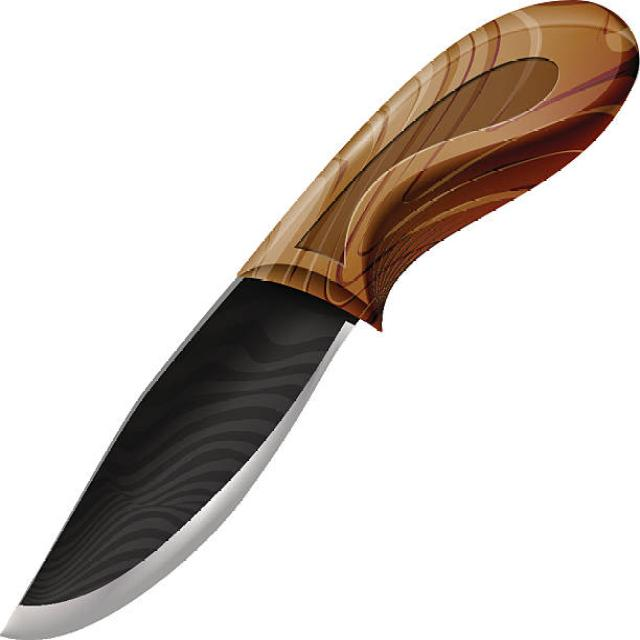knife: (2, 1, 640, 640)
